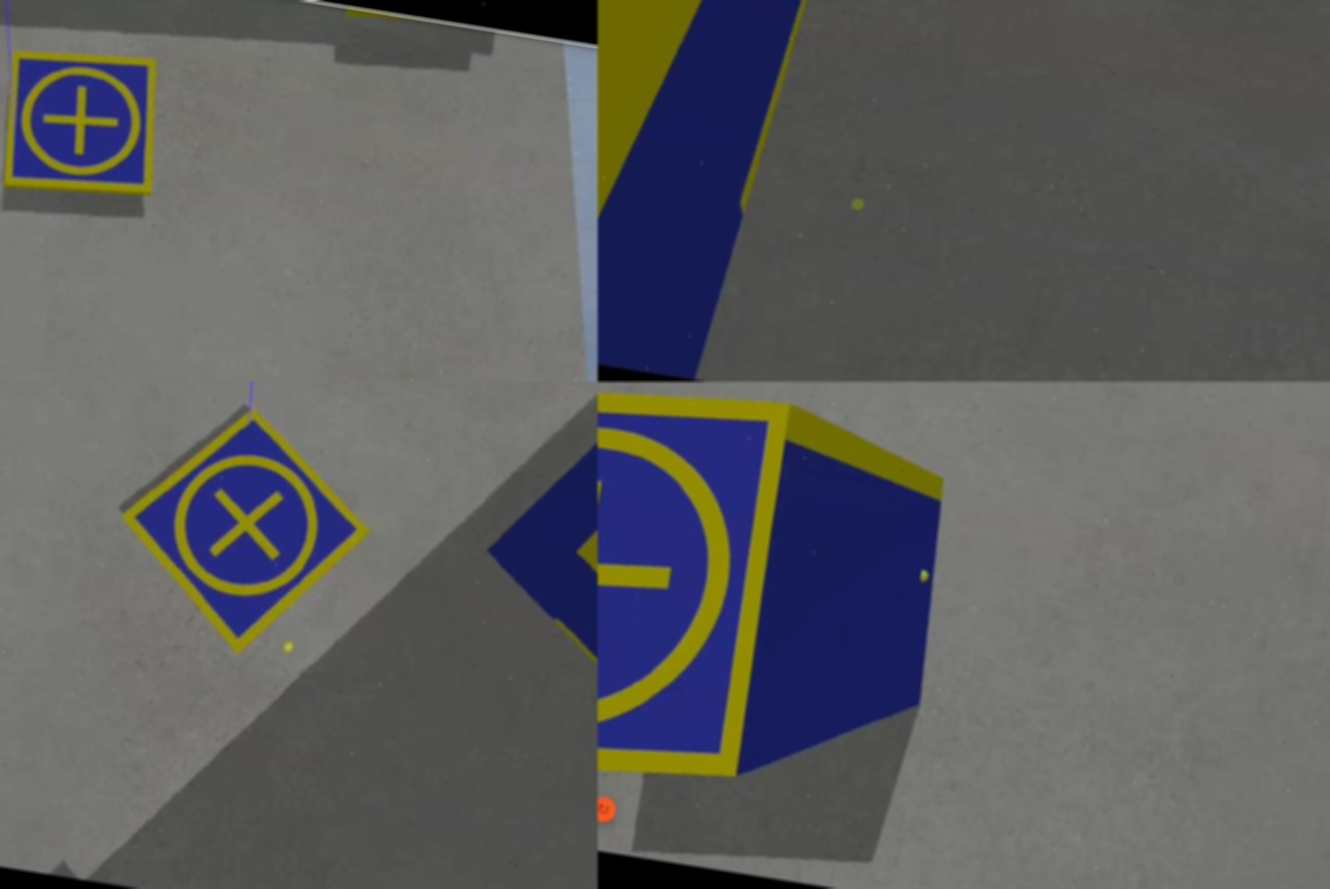large_base: (598, 1, 838, 382), (453, 382, 598, 864)
small_base: (598, 382, 798, 810), (97, 387, 388, 676), (1, 39, 174, 209)
